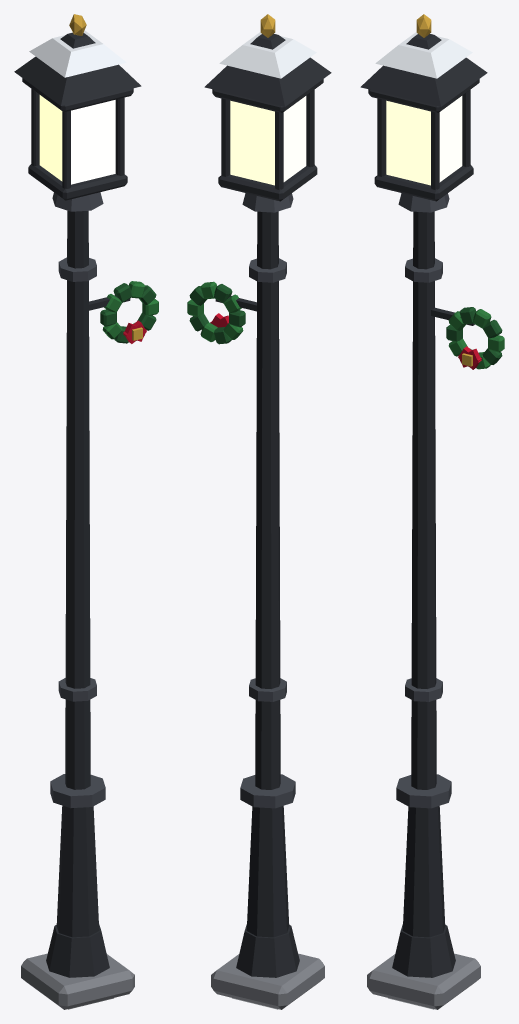
Rendered from street_lamp.glb.
3 views of the same model, side by side, from view 1: azimuth 30°, elevation 25°; view 2: azimuth 150°, elevation 25°; view 3: azimuth 330°, elevation 25° (orthographic).
Parts seen in each view (by area): view 1: street_lamp; view 2: street_lamp; view 3: street_lamp.
Part boxes in pixels (box(x1,y1,x2,y2)): street_lamp: box(14, 14, 158, 1009); street_lamp: box(187, 14, 331, 1009); street_lamp: box(360, 14, 504, 1009).
Size of the model in its own units: 0.6271 by 4.9 by 0.4243.
